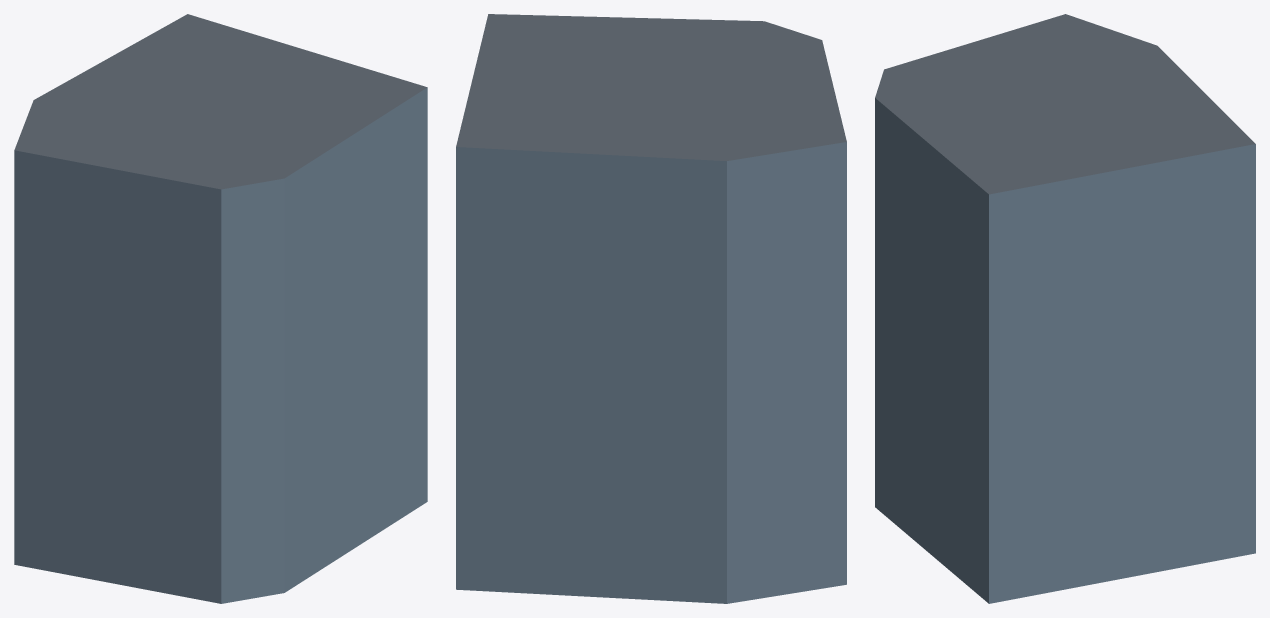
3 views of the same model, side by side, from view 1: azimuth 30°, elevation 25°; view 2: azimuth 150°, elevation 25°; view 3: azimuth 270°, elevation 25° (orthographic). The views are drawn at different scales.
Visible parts, largest first — view 1: HP-w159947152; view 2: HP-w159947152; view 3: HP-w159947152.
Boxes of the visible parts, box(x1,y1,x2,y2) form: HP-w159947152: box(14, 14, 427, 603); HP-w159947152: box(456, 14, 846, 603); HP-w159947152: box(875, 14, 1255, 603).
Size of the model in its own units: 71.86 by 76 by 64.07.
